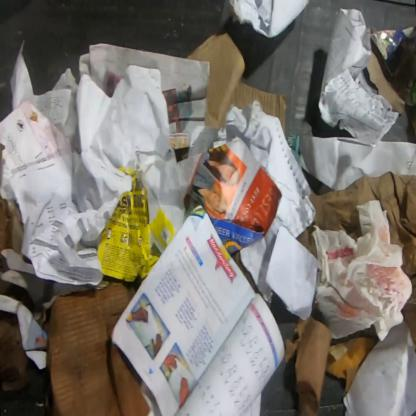cardboard: (43, 277, 152, 416), (186, 33, 286, 139), (365, 24, 415, 117), (0, 308, 32, 394), (0, 194, 25, 273)
soft_plastic: (311, 199, 413, 342)
